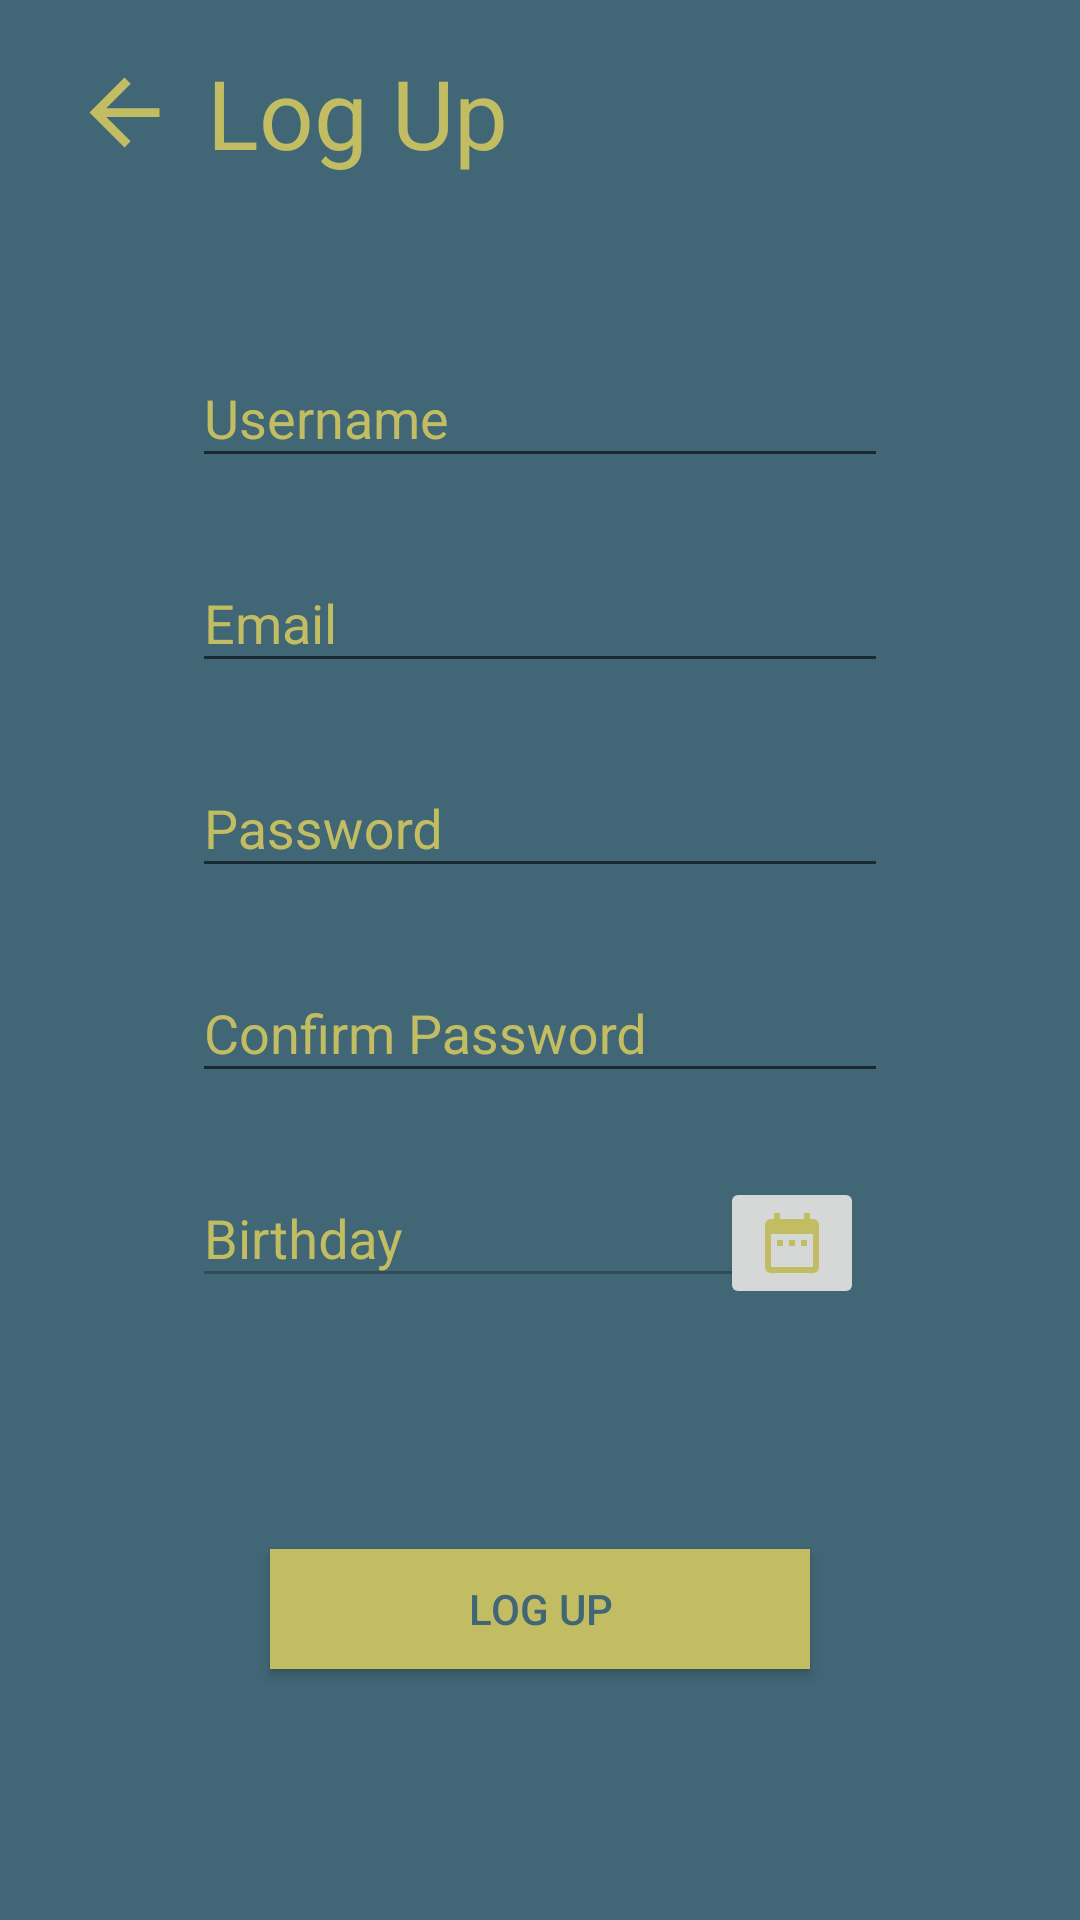

Where to tap for icons on this 1080w x 1920h app screen, as point (x, y):
date: point (786, 1243)
